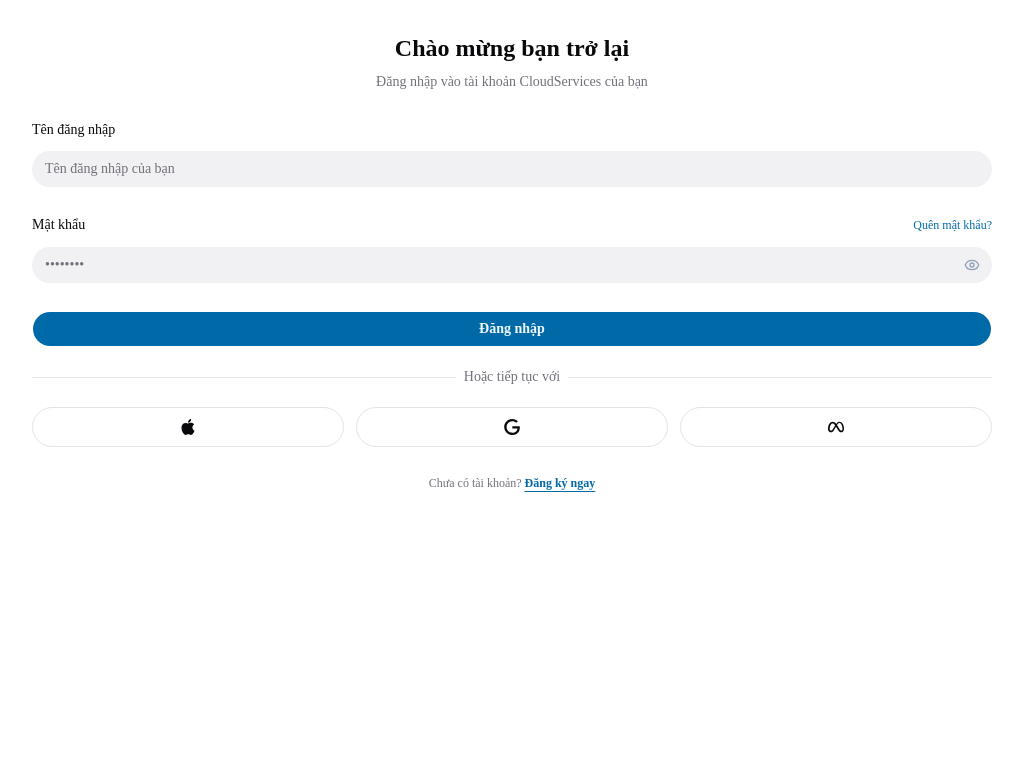
Test: LoginForm Component › should display server error message when signIn fails
Type "wronguser" into the field labelled "Tên đăng nhập" at (512, 169), box [32,151,992,187]
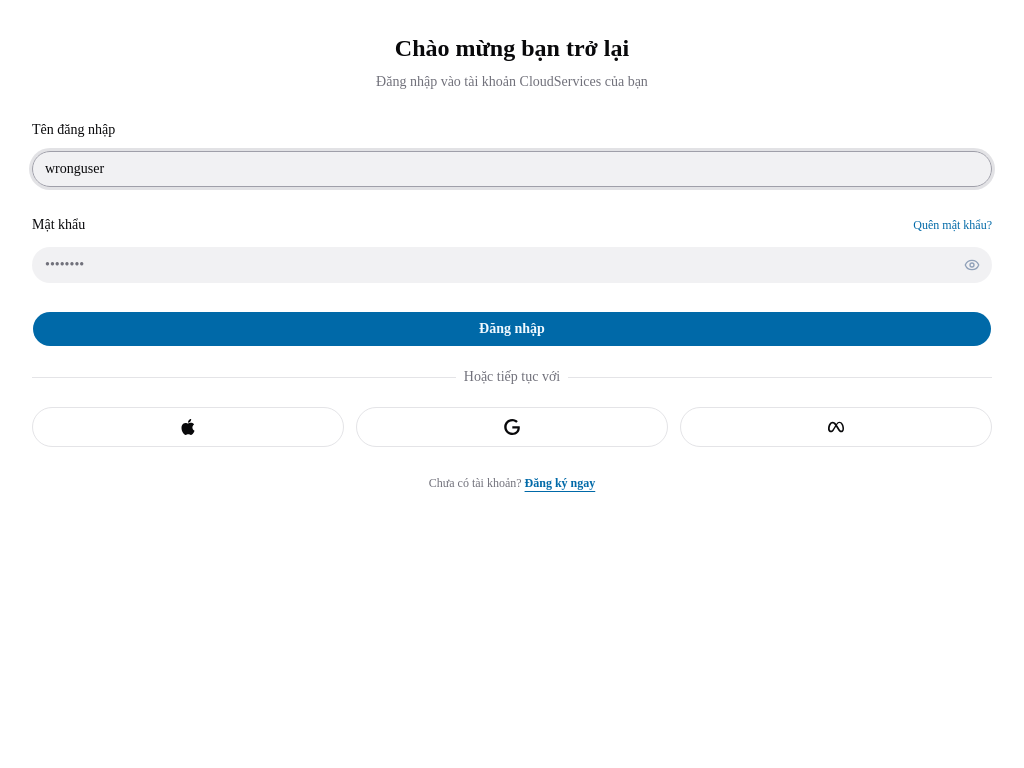
Type "wrongpass123" into the password field labelled "Mật khẩu" at (512, 264), box [32,246,992,282]
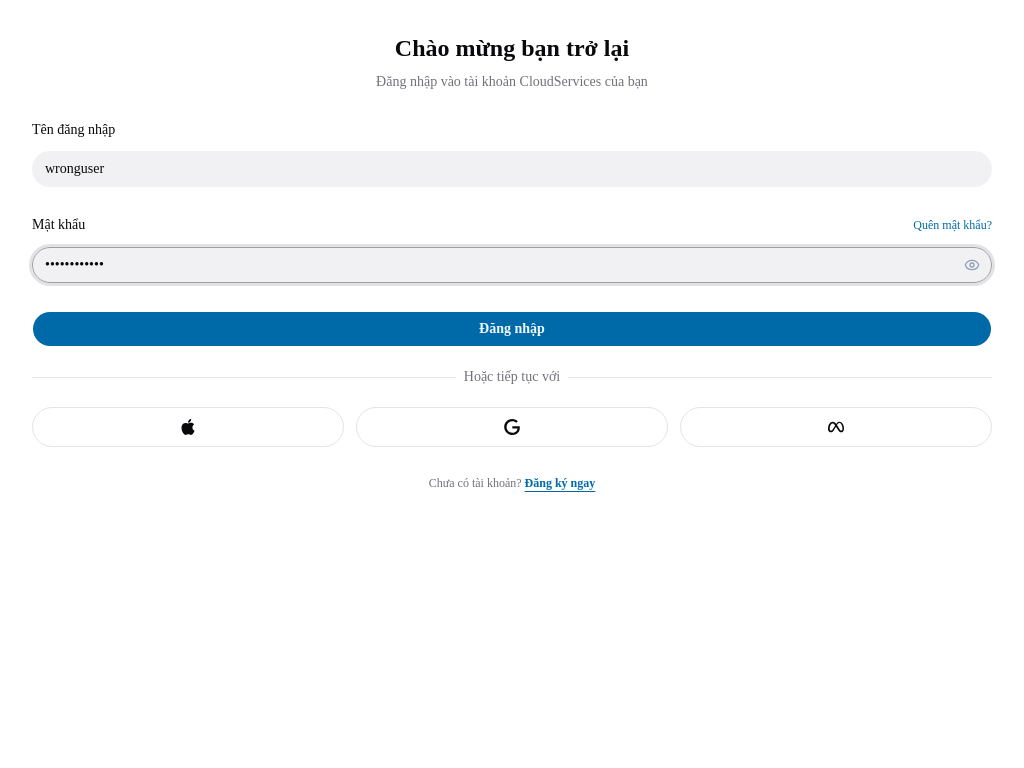
Click the button "Đăng nhập" at (512, 328), box [32,310,992,346]
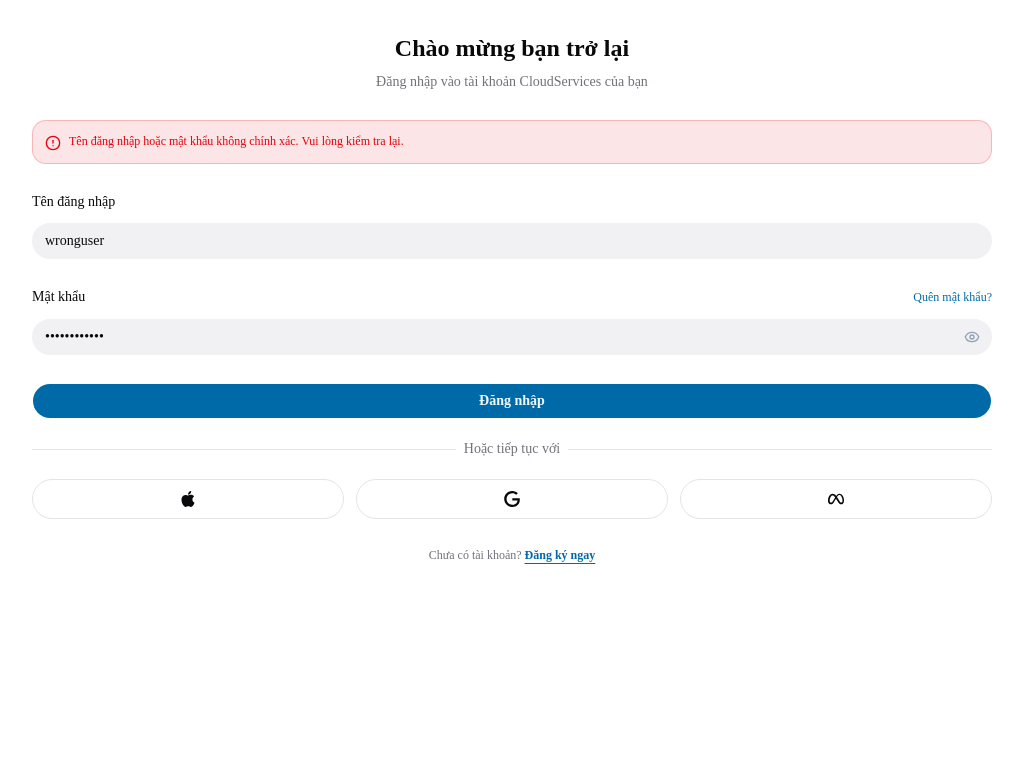
Now the text "Tên đăng nhập hoặc mật khẩu không chính xác" is shown, box [69,134,404,148]
